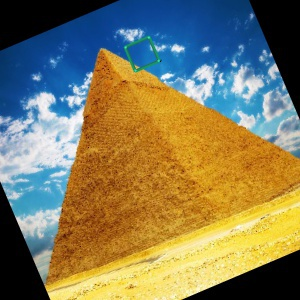square: (120, 34, 165, 76)
